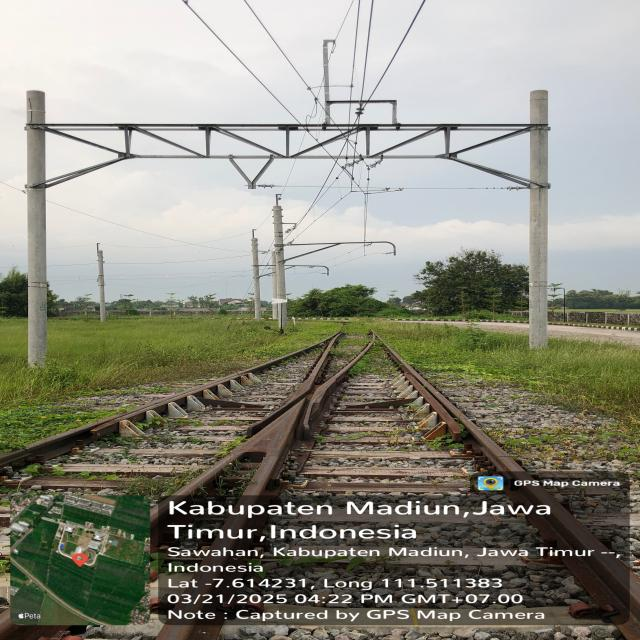rail-detection: (389, 349, 634, 615), (0, 341, 325, 463), (201, 399, 307, 567), (246, 339, 335, 436), (297, 341, 374, 441), (173, 435, 276, 500), (159, 569, 240, 640), (273, 420, 296, 454), (151, 501, 169, 529)
